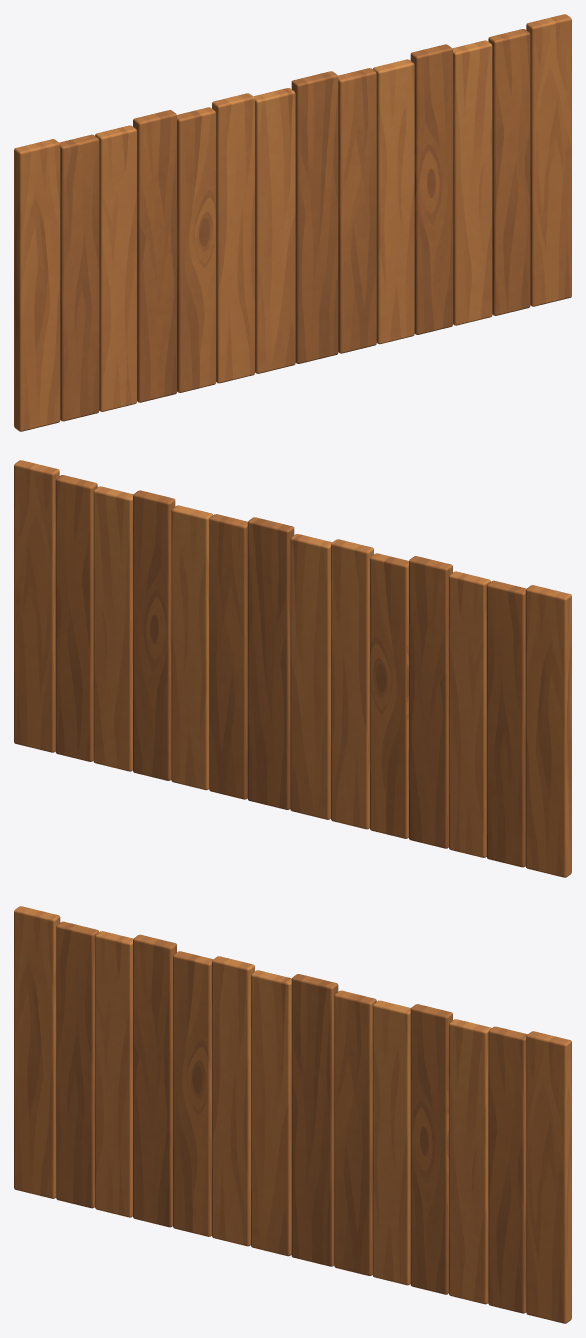
File: Fence_Wood_02_Planks.fbx
3 views of the same model, one above another, from view 1: azimuth 30°, elevation 25°; view 2: azimuth 150°, elevation 25°; view 3: azimuth 330°, elevation 25° (orthographic).
Parts seen in each view (by area): view 1: Fence_3D_Plank_01, Fence_3D_Plank_08, Fence_3D_Plank_14, Fence_3D_Plank_04, Fence_3D_Plank_07, Fence_3D_Plank_02, Fence_3D_Plank_12, Fence_3D_Plank_11, Fence_3D_Plank_06, Fence_3D_Plank_13, Fence_3D_Plank_05, Fence_3D_Plank_09 (+2 smaller); view 2: Fence_3D_Plank_01, Fence_3D_Plank_08, Fence_3D_Plank_14, Fence_3D_Plank_04, Fence_3D_Plank_07, Fence_3D_Plank_02, Fence_3D_Plank_12, Fence_3D_Plank_11, Fence_3D_Plank_06, Fence_3D_Plank_13, Fence_3D_Plank_05, Fence_3D_Plank_09 (+2 smaller); view 3: Fence_3D_Plank_14, Fence_3D_Plank_08, Fence_3D_Plank_01, Fence_3D_Plank_04, Fence_3D_Plank_07, Fence_3D_Plank_12, Fence_3D_Plank_11, Fence_3D_Plank_06, Fence_3D_Plank_02, Fence_3D_Plank_13, Fence_3D_Plank_09, Fence_3D_Plank_05 (+2 smaller).
Part boxes in pixels (<box>): Fence_3D_Plank_01: <box>14,139,60,431</box>; Fence_3D_Plank_08: <box>291,71,338,363</box>; Fence_3D_Plank_14: <box>526,14,571,306</box>; Fence_3D_Plank_04: <box>133,110,176,402</box>; Fence_3D_Plank_07: <box>254,88,295,373</box>; Fence_3D_Plank_02: <box>59,134,99,421</box>; Fence_3D_Plank_12: <box>452,40,492,325</box>; Fence_3D_Plank_11: <box>410,44,452,334</box>; Fence_3D_Plank_06: <box>212,93,254,383</box>; Fence_3D_Plank_13: <box>488,29,530,315</box>; Fence_3D_Plank_05: <box>177,107,215,392</box>; Fence_3D_Plank_09: <box>338,68,376,353</box>; Fence_3D_Plank_01: <box>525,585,571,877</box>; Fence_3D_Plank_08: <box>247,517,294,809</box>; Fence_3D_Plank_14: <box>14,460,59,752</box>; Fence_3D_Plank_04: <box>409,556,452,848</box>; Fence_3D_Plank_07: <box>290,534,331,819</box>; Fence_3D_Plank_02: <box>486,580,526,867</box>; Fence_3D_Plank_12: <box>93,486,133,771</box>; Fence_3D_Plank_11: <box>133,490,175,780</box>; Fence_3D_Plank_06: <box>331,539,373,829</box>; Fence_3D_Plank_13: <box>55,475,97,761</box>; Fence_3D_Plank_05: <box>370,553,408,838</box>; Fence_3D_Plank_09: <box>209,514,247,799</box>; Fence_3D_Plank_14: <box>526,1031,571,1323</box>; Fence_3D_Plank_08: <box>291,974,338,1266</box>; Fence_3D_Plank_01: <box>14,906,60,1198</box>; Fence_3D_Plank_04: <box>133,934,176,1227</box>; Fence_3D_Plank_07: <box>251,970,291,1256</box>; Fence_3D_Plank_12: <box>449,1019,491,1304</box>; Fence_3D_Plank_11: <box>410,1004,452,1294</box>; Fence_3D_Plank_06: <box>212,956,254,1246</box>; Fence_3D_Plank_02: <box>56,921,98,1208</box>; Fence_3D_Plank_13: <box>488,1026,527,1313</box>; Fence_3D_Plank_09: <box>334,990,376,1275</box>; Fence_3D_Plank_05: <box>173,951,212,1236</box>.
Size of the model in its own units: 3.19 by 1.55 by 0.07.
